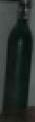cylinder: (0, 1, 35, 122)
